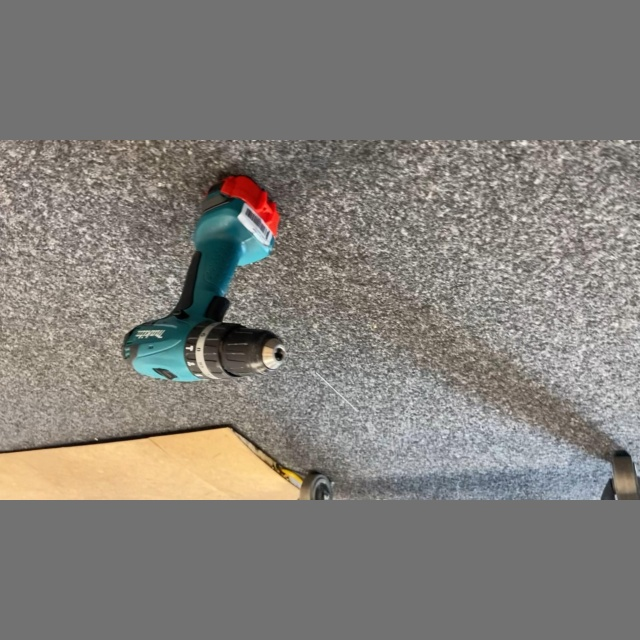drill: (116, 168, 294, 387)
